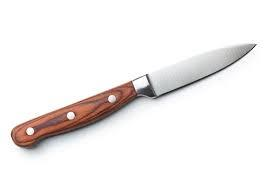Knife: (10, 42, 257, 148)
